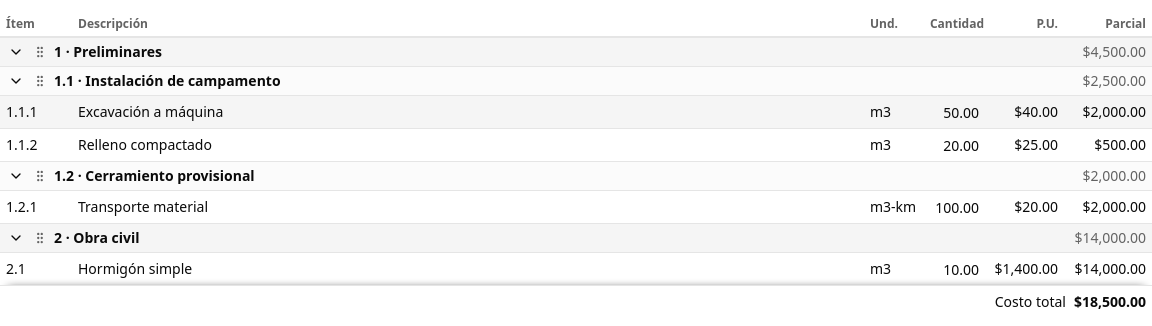
Test case: PresupuestoCompacto › permite colapsar el capítulo que contiene el rubro seleccionado
The image size is (1152, 326).
Check: the row "1.1.1 Excavación a máquina m3 $40.00 $2,000.00" is shown, box 0,96 -> 1151,128
Click the button named "Contraer Instalación de campamento": (16, 81) 6,71 -> 26,91
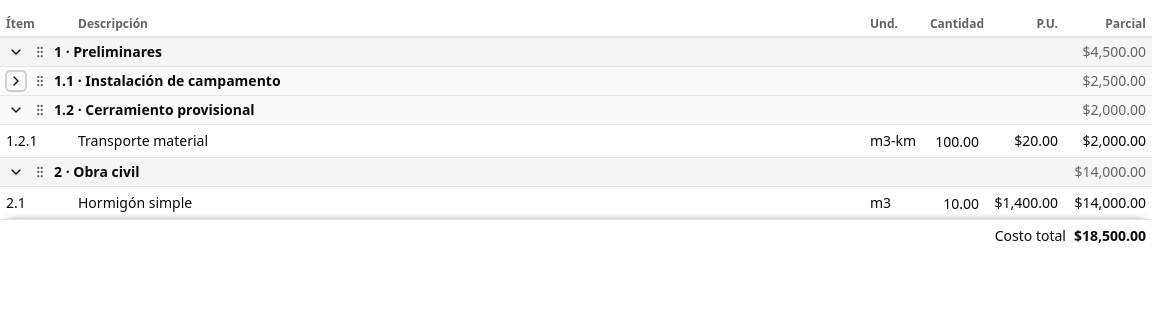
Check: the text "Excavación a máquina" is gone
Check: the button named "Expandir Instalación de campamento" is shown, box 6,71 -> 26,91
